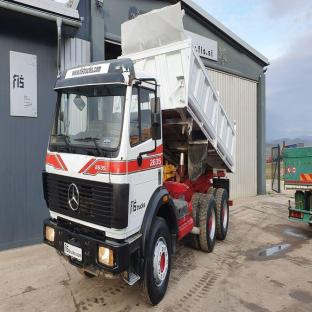Vehicle: (47, 38, 256, 295)
